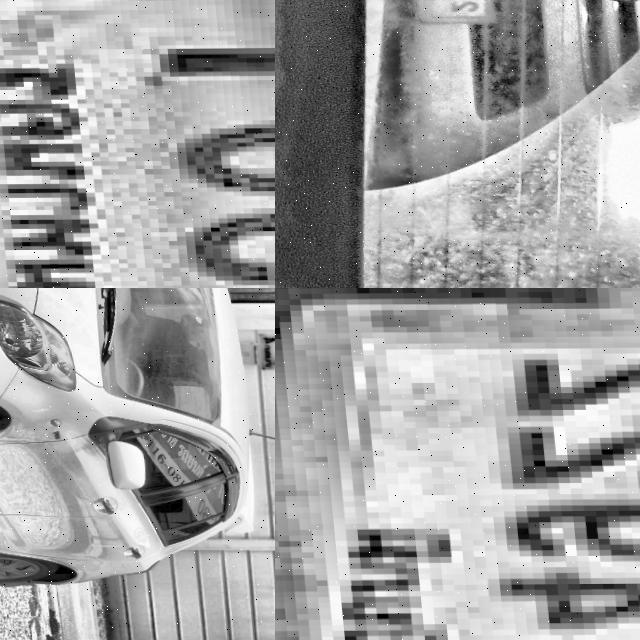license-plate: (275, 288, 640, 640), (0, 0, 275, 288), (393, 0, 495, 29)
